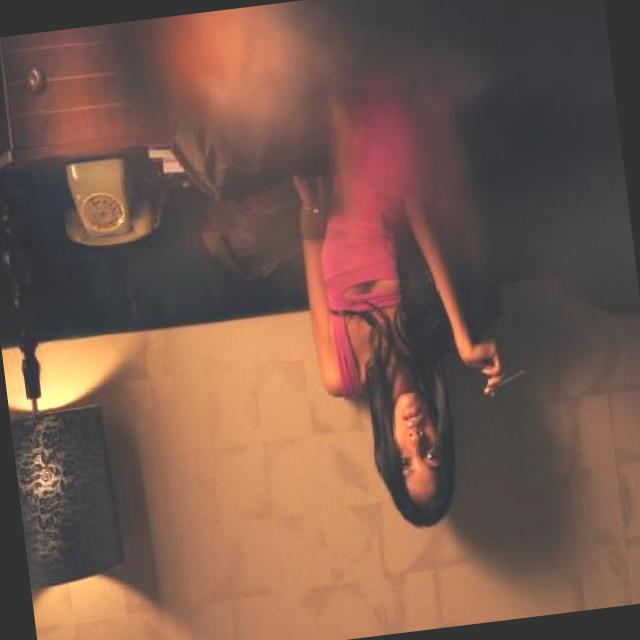cigarette: (480, 367, 527, 394)
